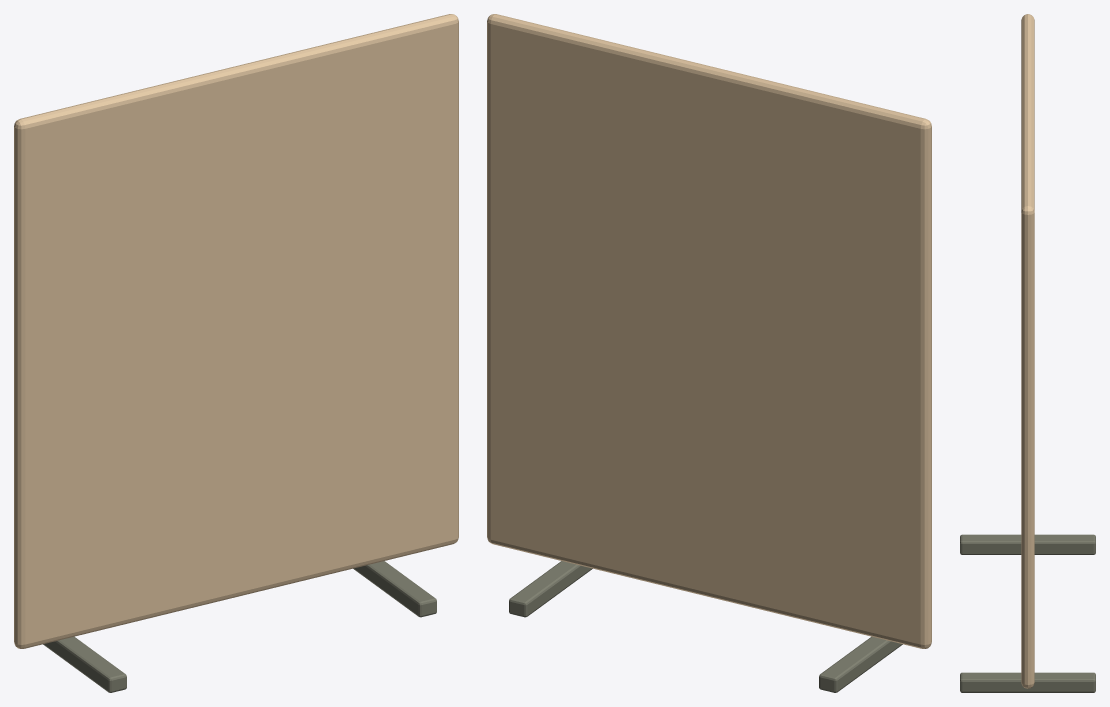
The model's file is partitions___dividers_asset_catalog_65.glb.
3 renders of one model, left to right at view 1: azimuth 30°, elevation 25°; view 2: azimuth 150°, elevation 25°; view 3: azimuth 270°, elevation 25°, orthographic. The views are drawn at different scales.
Parts seen in each view (by area): view 1: Cube; view 2: Cube; view 3: Cube.
Part boxes in pixels (left/top/right/bottom): Cube: left=14, top=14, right=458, bottom=692; Cube: left=487, top=14, right=931, bottom=692; Cube: left=960, top=14, right=1095, bottom=692.
Size of the model in its own units: 1.2 by 1.45 by 0.35.
